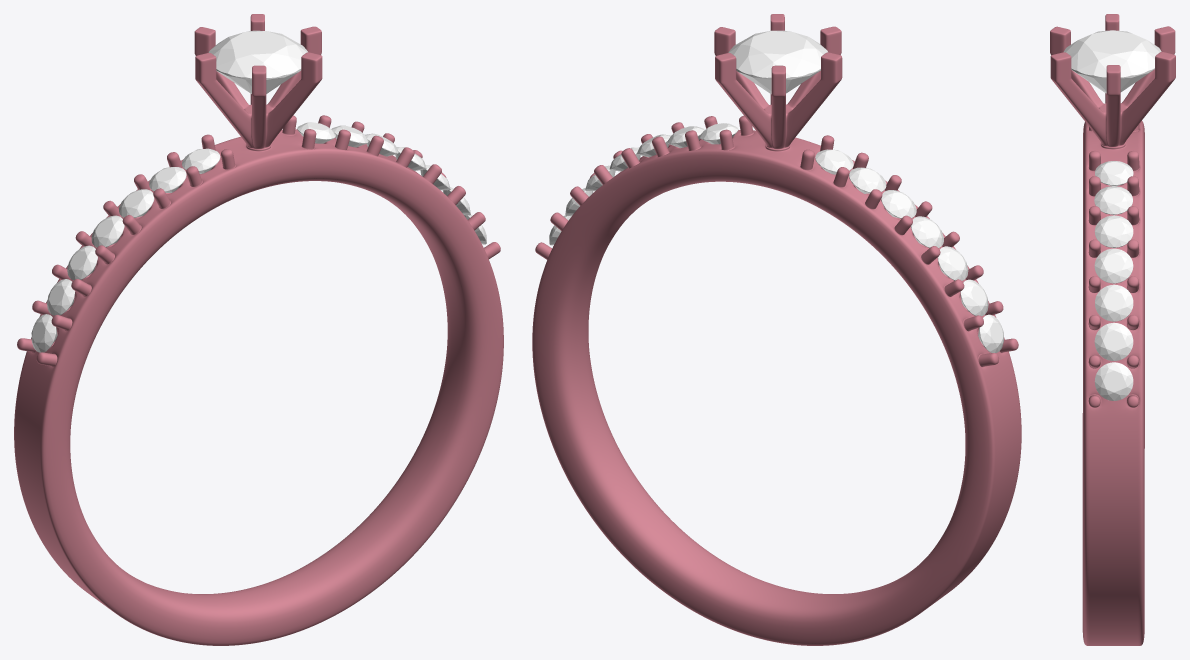
Rendered from 26_ring_r_gold_green.glb.
The picture shows the model from 3 angles, left to right: view 1: azimuth 30°, elevation 25°; view 2: azimuth 150°, elevation 25°; view 3: azimuth 270°, elevation 25°; orthographic projection.
Visible parts, largest first — view 1: Round_Round.007; view 2: Round_Round.007; view 3: Round_Round.007.
Boxes of the visible parts, box(x1,y1,x2,y2) form: Round_Round.007: box(14, 14, 503, 645); Round_Round.007: box(532, 14, 1021, 645); Round_Round.007: box(1050, 14, 1175, 645).
Size of the model in its own units: 1.98 by 2.4 by 0.4745.
